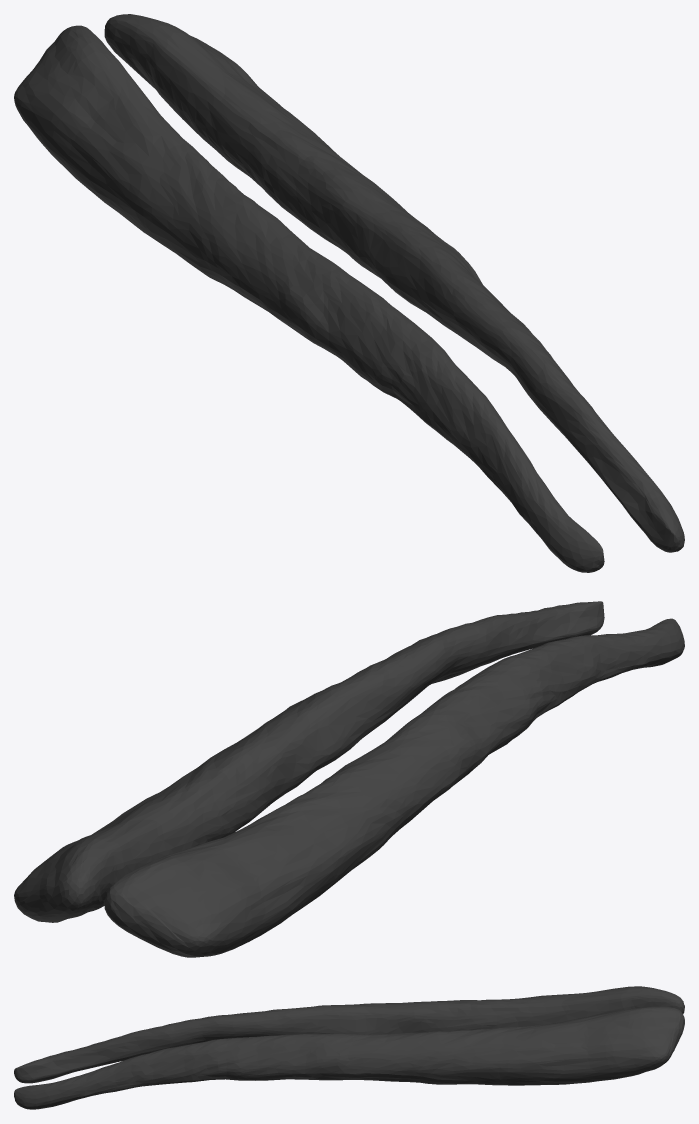
The model's file is m_longissimus_thoracis_et_lumbaris.glb.
3 views of the same model, one above another, from view 1: azimuth 30°, elevation 25°; view 2: azimuth 150°, elevation 25°; view 3: azimuth 270°, elevation 25° (orthographic). The views are drawn at different scales.
Parts seen in each view (by area): view 1: m_longissimus_thoracis_et_lumbaris; view 2: m_longissimus_thoracis_et_lumbaris; view 3: m_longissimus_thoracis_et_lumbaris.
Part boxes in pixels (box(x1,y1,x2,y2)): m_longissimus_thoracis_et_lumbaris: box(14, 14, 684, 572); m_longissimus_thoracis_et_lumbaris: box(14, 601, 684, 957); m_longissimus_thoracis_et_lumbaris: box(14, 986, 684, 1109).
Size of the model in its own units: 0.00353 by 0.00267 by 0.0167.
1 material, 1 textured.
